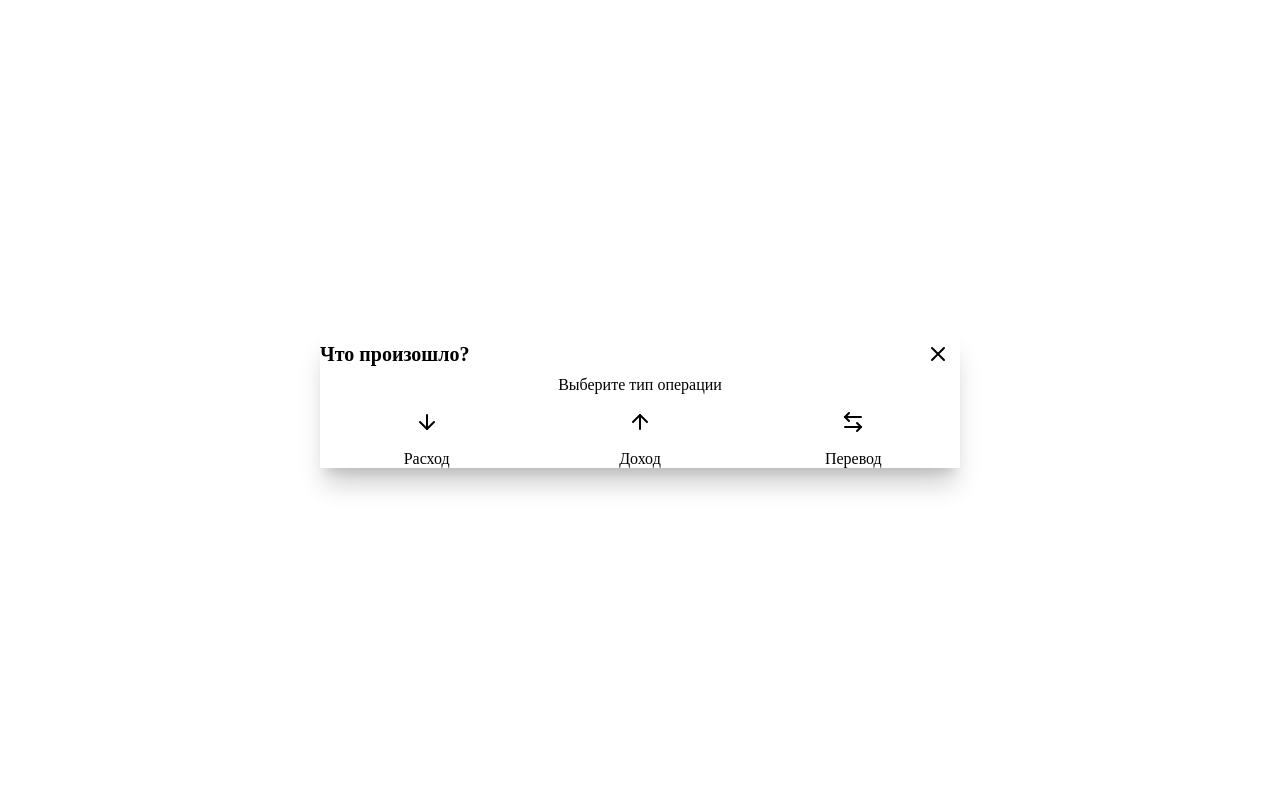
Scenario: AppOperationDialogs › opens the type picker and routes the chosen type into the entry dialog
The width and height of the screenshot is (1280, 800).
Expected: the button with test id "operation-type-expense" is shown, [320, 394, 533, 468]
Click the button "Доход": coordinates (640, 431) [533, 394, 747, 468]
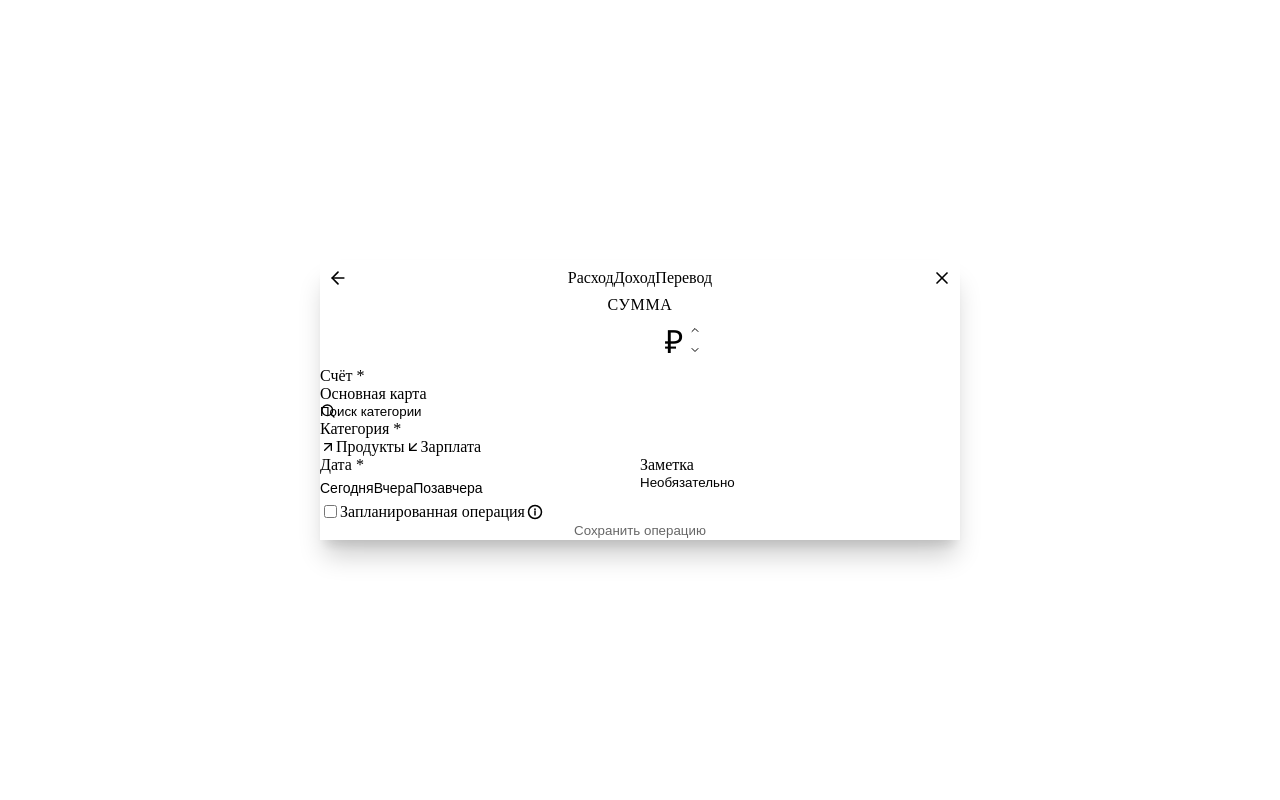
Now the button with test id "operation-type-expense" is gone
